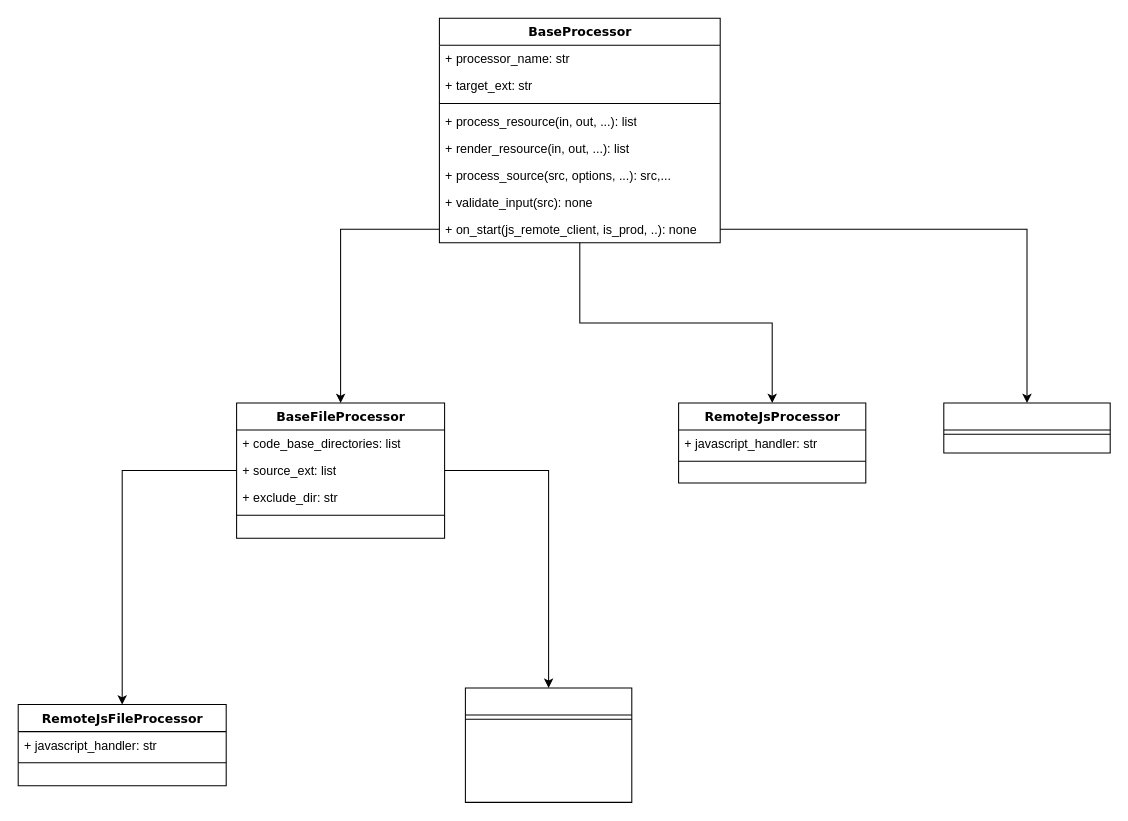
Image size: 1128x821. Some labels were removed from this diagram. Here are the shapes that lost their labels. From the top down, the centre of each, then its label:
At (1026,427): "I18nProcessor".
At (548,744): "CSSProcessor".
